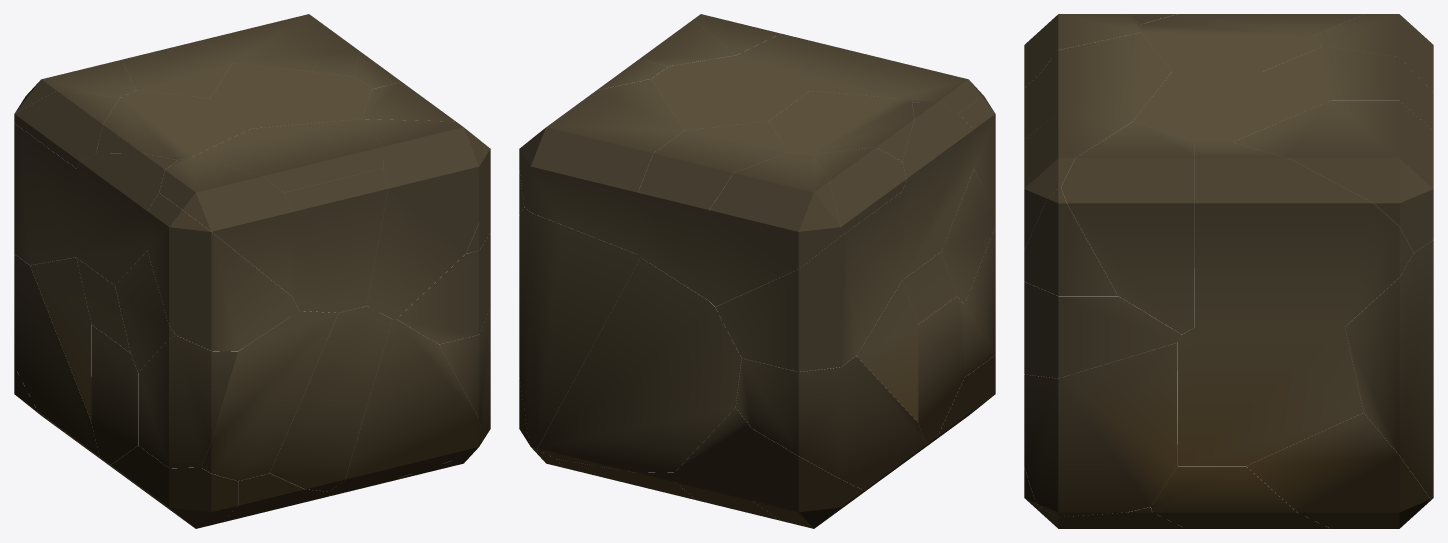
File: Crate.fbx
The picture shows the model from 3 angles, left to right: view 1: azimuth 30°, elevation 25°; view 2: azimuth 150°, elevation 25°; view 3: azimuth 270°, elevation 25°; orthographic projection. The views are drawn at different scales.
Visible parts, largest first — view 1: Map1_crate.mc_cell.003, Map1_crate.mc_cell.011, Map1_crate.mc_cell.007, Map1_crate.mc_cell.018, Map1_crate.mc_cell.032, Map1_crate.mc_cell.016, Map1_crate.mc_cell.028, Map1_crate.mc_cell, Map1_crate.mc_cell.038, Map1_crate.mc_cell.025, Map1_crate.mc_cell.024, Map1_crate.mc_cell.019 (+17 smaller); view 2: Map1_crate.mc_cell.009, Map1_crate.mc_cell.022, Map1_crate.mc_cell.008, Map1_crate.mc_cell.020, Map1_crate.mc_cell.015, Map1_crate.mc_cell.001, Map1_crate.mc_cell.021, Map1_crate.mc_cell.038, Map1_crate.mc_cell.024, Map1_crate.mc_cell.019, Map1_crate.mc_cell.025, Map1_crate.mc_cell.036 (+14 smaller); view 3: Map1_crate.mc_cell.014, Map1_crate.mc_cell.034, Map1_crate.mc_cell.039, Map1_crate.mc_cell.017, Map1_crate.mc_cell.008, Map1_crate.mc_cell.020, Map1_crate.mc_cell.004, Map1_crate.mc_cell.010, Map1_crate.mc_cell.024, Map1_crate.mc_cell.025, Map1_crate.mc_cell.019, Map1_crate.mc_cell.030 (+8 smaller).
Part boxes in pixels (bbox=[...]): Map1_crate.mc_cell.003: bbox=[361, 119, 486, 319]; Map1_crate.mc_cell.011: bbox=[329, 319, 482, 495]; Map1_crate.mc_cell.007: bbox=[147, 193, 299, 351]; Map1_crate.mc_cell.018: bbox=[201, 311, 338, 480]; Map1_crate.mc_cell.032: bbox=[270, 306, 392, 491]; Map1_crate.mc_cell.016: bbox=[284, 168, 387, 312]; Map1_crate.mc_cell.028: bbox=[159, 156, 291, 295]; Map1_crate.mc_cell: bbox=[138, 335, 237, 468]; Map1_crate.mc_cell.038: bbox=[76, 153, 176, 285]; Map1_crate.mc_cell.025: bbox=[193, 119, 383, 192]; Map1_crate.mc_cell.024: bbox=[210, 63, 372, 128]; Map1_crate.mc_cell.019: bbox=[96, 90, 251, 160]; Map1_crate.mc_cell.009: bbox=[537, 258, 741, 472]; Map1_crate.mc_cell.022: bbox=[715, 191, 902, 371]; Map1_crate.mc_cell.008: bbox=[519, 79, 683, 254]; Map1_crate.mc_cell.020: bbox=[519, 207, 640, 449]; Map1_crate.mc_cell.015: bbox=[735, 356, 925, 490]; Map1_crate.mc_cell.001: bbox=[709, 152, 840, 306]; Map1_crate.mc_cell.021: bbox=[638, 121, 788, 300]; Map1_crate.mc_cell.038: bbox=[902, 102, 973, 279]; Map1_crate.mc_cell.024: bbox=[651, 55, 809, 130]; Map1_crate.mc_cell.019: bbox=[769, 91, 914, 161]; Map1_crate.mc_cell.025: bbox=[736, 33, 901, 98]; Map1_crate.mc_cell.036: bbox=[751, 429, 866, 528]; Map1_crate.mc_cell.014: bbox=[1195, 142, 1413, 326]; Map1_crate.mc_cell.034: bbox=[1024, 342, 1177, 517]; Map1_crate.mc_cell.039: bbox=[1178, 268, 1363, 465]; Map1_crate.mc_cell.017: bbox=[1061, 121, 1194, 334]; Map1_crate.mc_cell.008: bbox=[1233, 100, 1433, 252]; Map1_crate.mc_cell.020: bbox=[1345, 240, 1433, 499]; Map1_crate.mc_cell.004: bbox=[1246, 413, 1430, 528]; Map1_crate.mc_cell.010: bbox=[1024, 282, 1181, 378]; Map1_crate.mc_cell.024: bbox=[1133, 71, 1330, 267]; Map1_crate.mc_cell.025: bbox=[1041, 32, 1171, 125]; Map1_crate.mc_cell.019: bbox=[1141, 14, 1322, 71]; Map1_crate.mc_cell.030: bbox=[1151, 445, 1330, 528].
Bounding box in the file's own units: 600 × 600 × 600.
